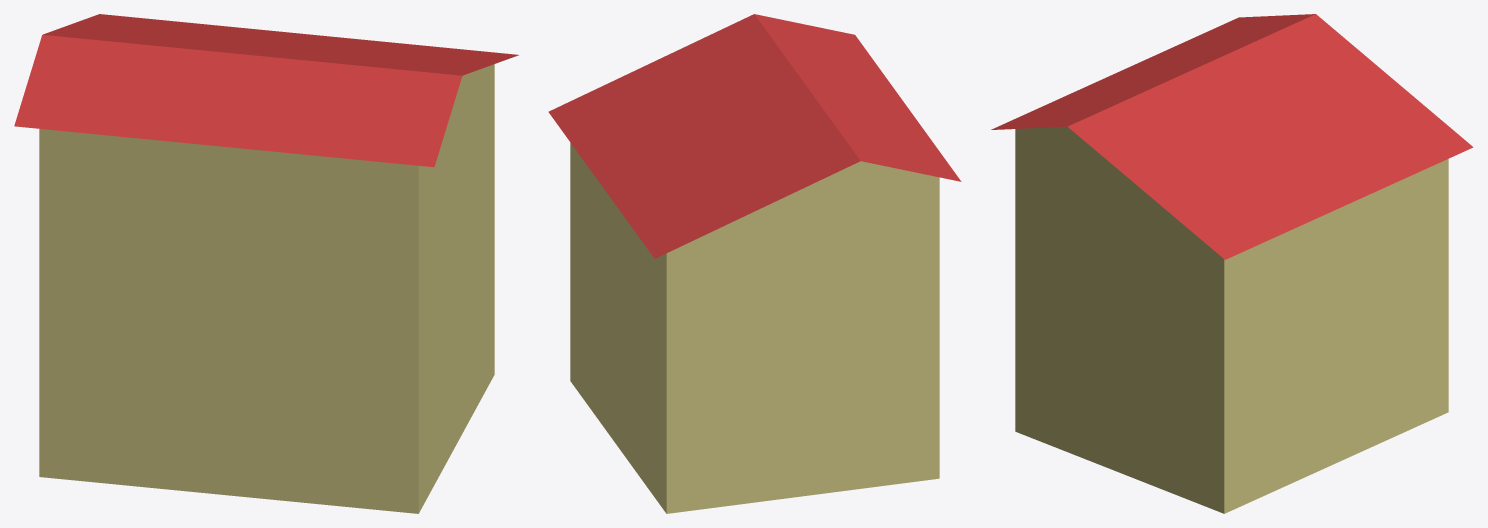
3 views of the same model, side by side, from view 1: azimuth 30°, elevation 25°; view 2: azimuth 150°, elevation 25°; view 3: azimuth 270°, elevation 25° (orthographic). The views are drawn at different scales.
Size of the model in its own units: 13.66 by 13.61 by 10.43.
